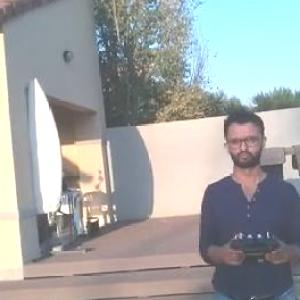follow: (188, 96, 300, 299)
